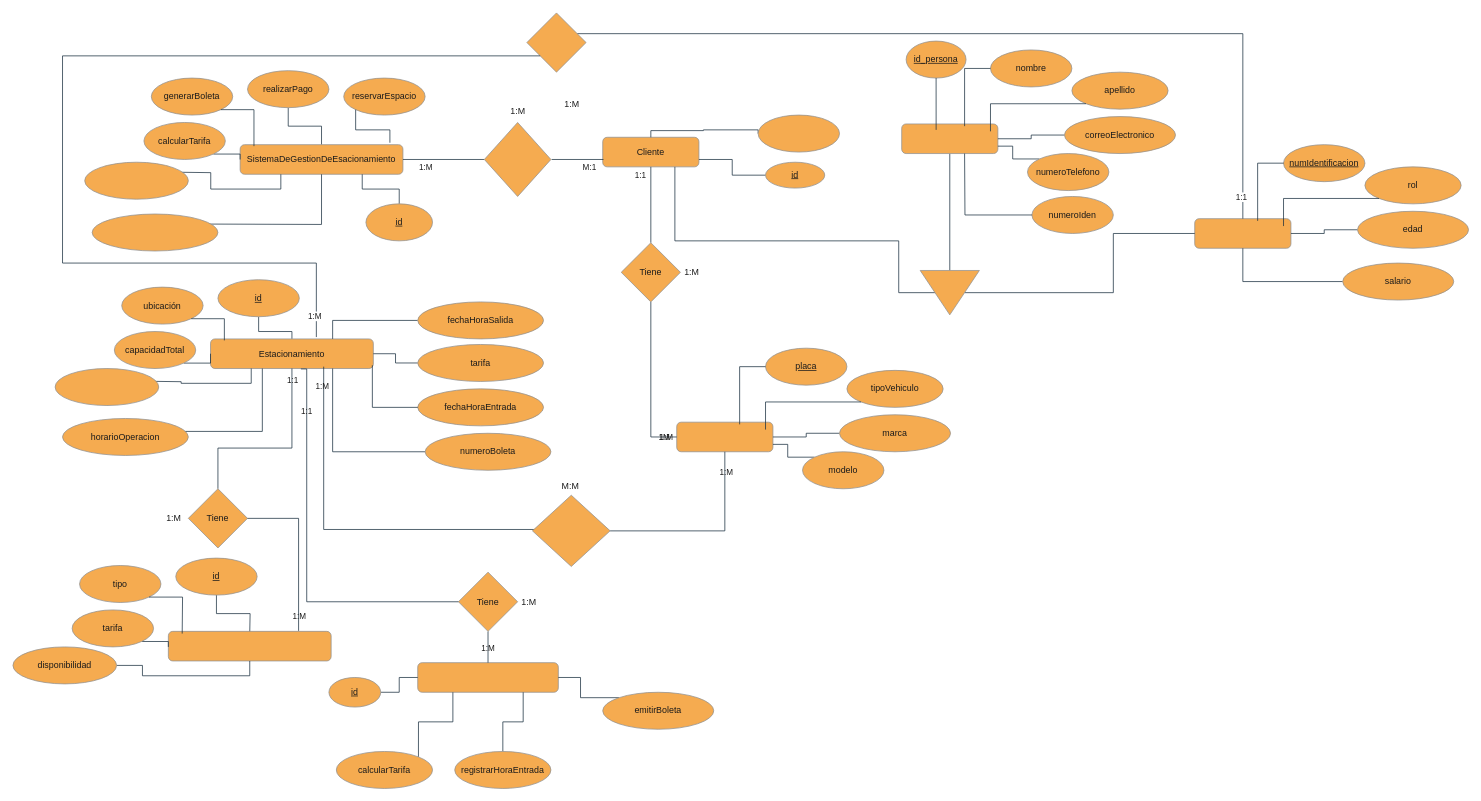
Some shapes in this 1481 by 801 pixel diagram are drawn without their labels. Here are the shapes that lost their labels. From the top down, the centre of each, then its label:
the point at 556,42: Trabajan
the point at 798,133: metodoDePago
the point at 949,138: Persona
the point at 517,159: puede hacer
the point at 136,180: verificarDisponibilidad
the point at 154,232: consultarEstadoDeReserva
the point at 1242,233: Empleado
the point at 106,387: tarifaPorHora
the point at 724,436: Vehiculo
the point at 571,530: se estaciona
the point at 249,646: EspacioDeEstacionamiento
the point at 487,677: MaquinaExpendedoraDeBoletos
